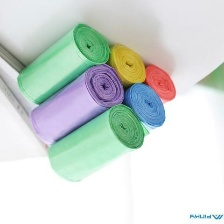plastic_bag: (21, 61, 126, 149), (12, 18, 110, 108), (46, 101, 148, 187), (113, 83, 173, 136), (133, 61, 181, 114), (105, 40, 150, 89)
